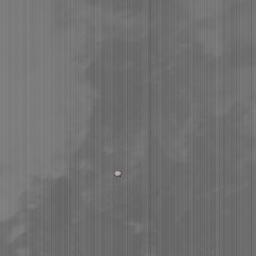Target: (112, 168, 122, 176)
